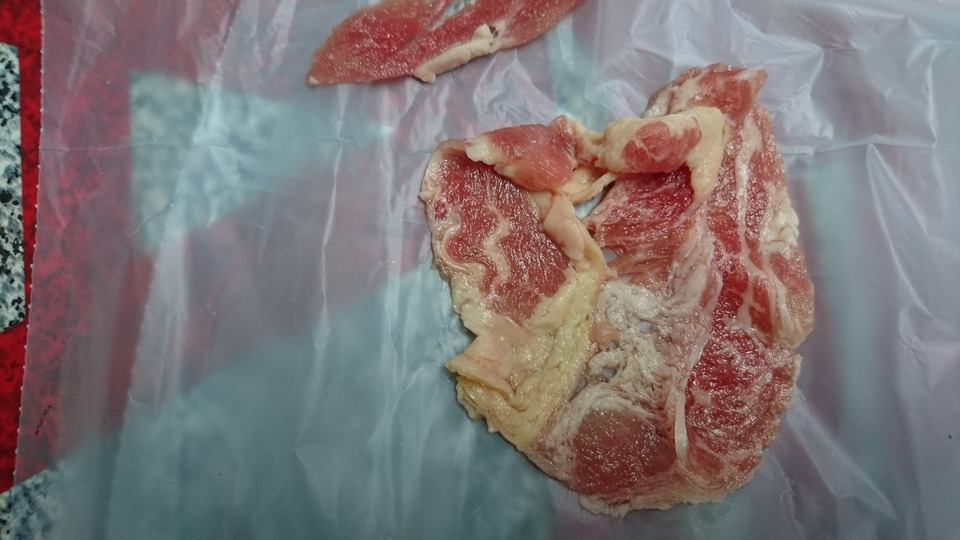restructured meat: (316, 9, 826, 513)
